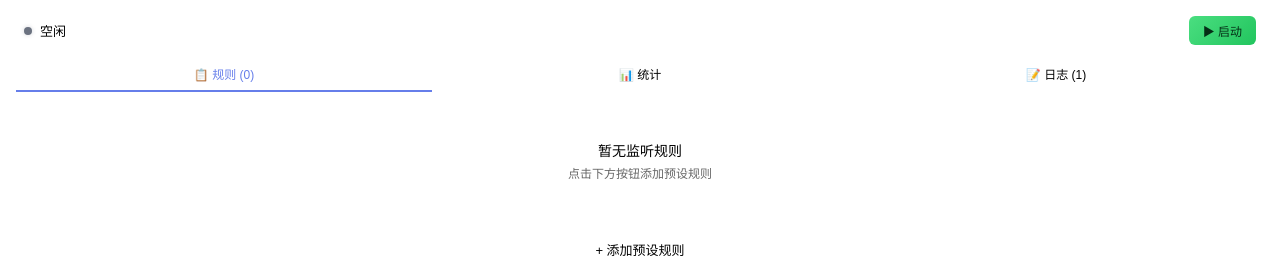
Scenario: WatchPanel › 日志显示 › 日志应该有正确的 CSS 类名
What coordinates should you click on to do the following:
click the button "📝 日志 (1)"
I would click on:
 (1056, 74)
Its box is left=848, top=57, right=1264, bottom=92.
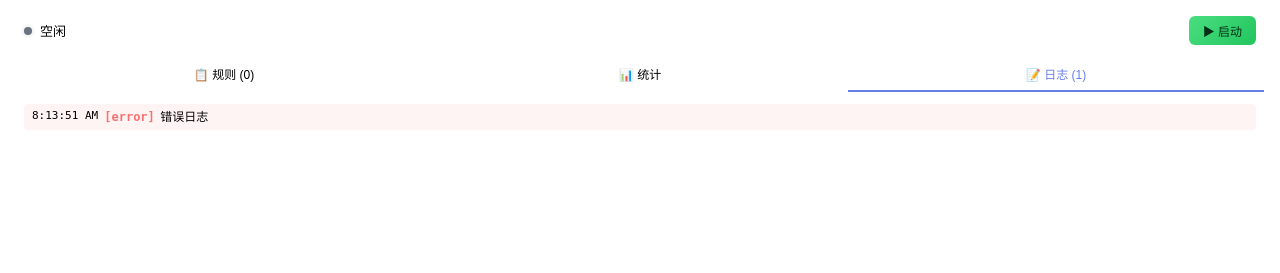
Expected: the element with class "bee-watch-log-error" is shown, left=24, top=104, right=1256, bottom=130
